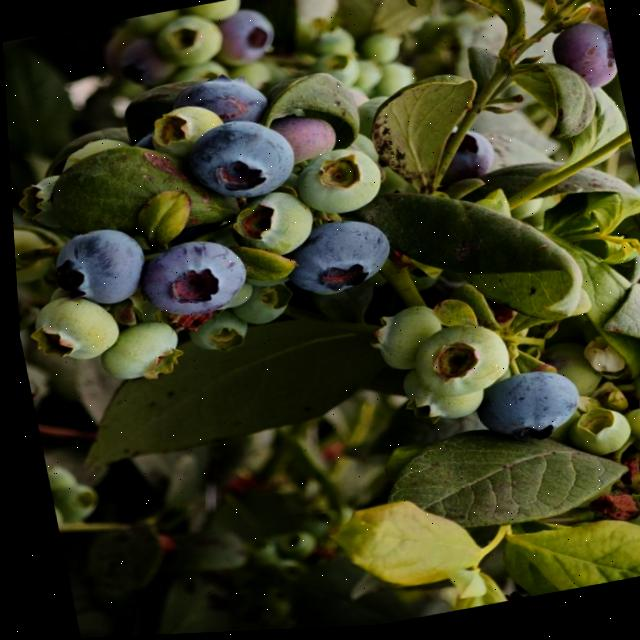RipeBlueBerry: (177, 113, 300, 212), (126, 232, 251, 329), (275, 214, 395, 305), (464, 369, 582, 455), (42, 221, 148, 314), (167, 70, 272, 139), (421, 126, 497, 197)
Semi-RipeBlueBerry: (547, 21, 620, 102), (209, 6, 279, 74), (269, 114, 337, 168)
UnripeBlueBerry: (402, 321, 513, 410), (286, 142, 387, 227), (22, 288, 119, 371), (223, 186, 318, 269), (89, 317, 183, 391), (359, 308, 446, 381), (392, 365, 481, 434), (141, 102, 228, 165), (149, 11, 225, 72), (559, 407, 628, 466), (177, 309, 247, 363), (223, 278, 292, 332), (613, 401, 640, 464)
